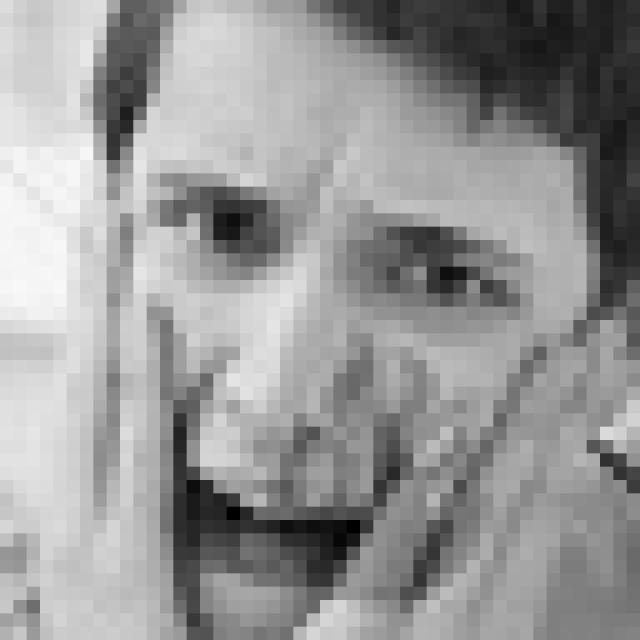fear: (146, 161, 540, 614)
